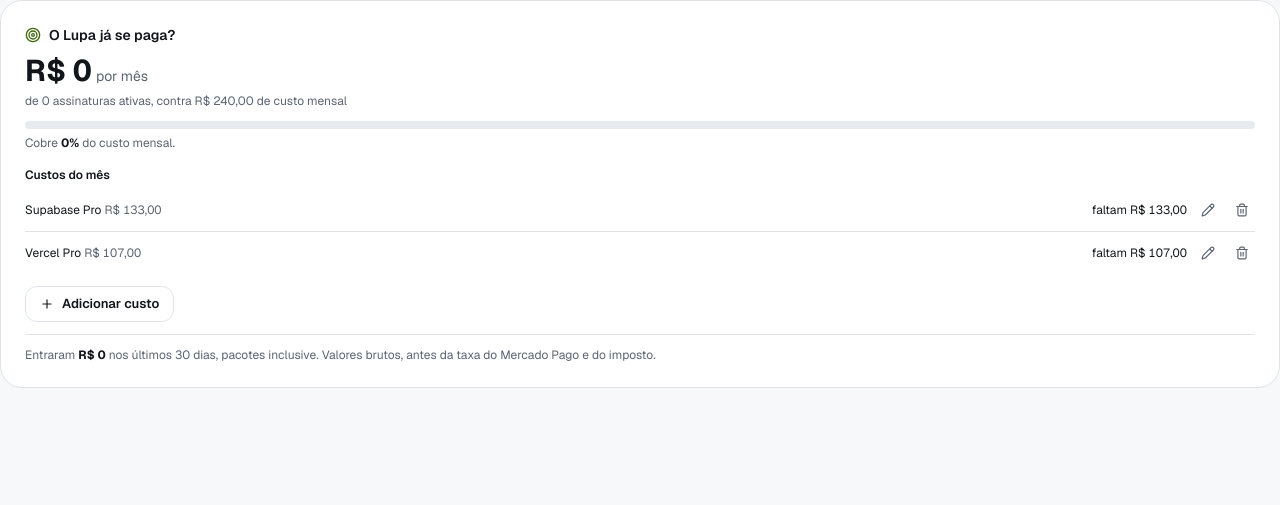
o Lupa já se paga? › valor errado mostra o erro ao lado do campo, e mantém o que foi digitado
The width and height of the screenshot is (1280, 505).
Click the button "Adicionar custo": (100,304) top-left (25, 286), bottom-right (174, 322)
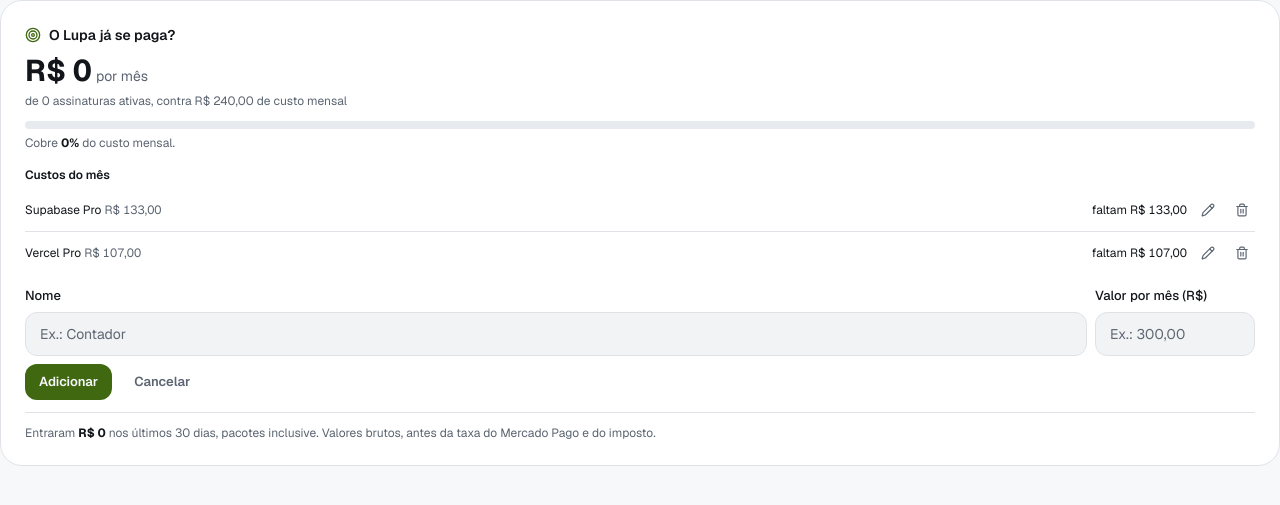
In the field labelled "Nome": (556,334) top-left (25, 312), bottom-right (1087, 356), type "Aluguel"
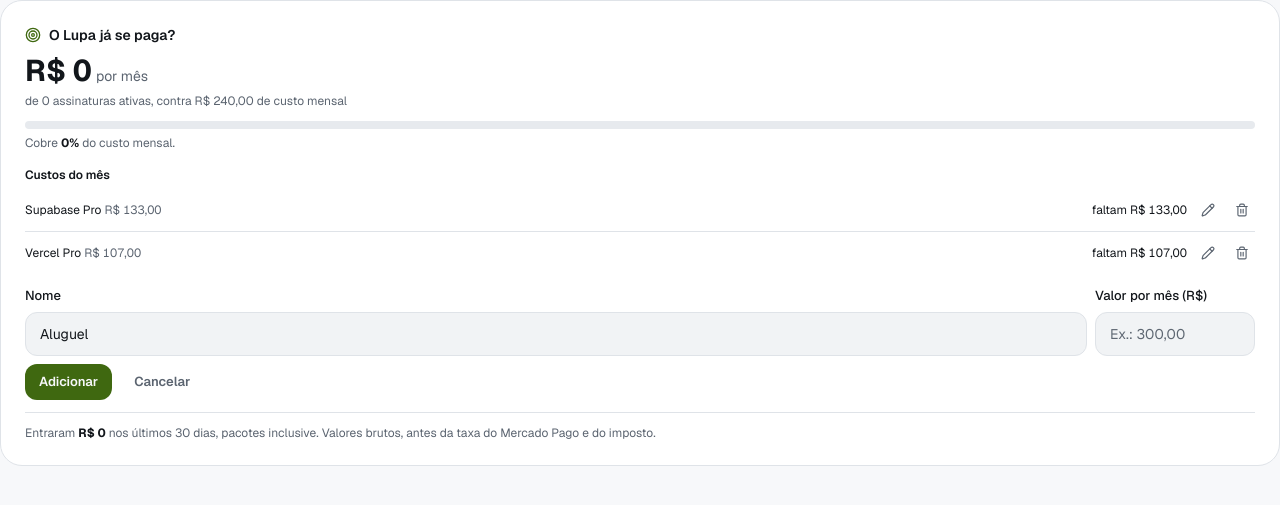
In the field labelled "Valor por mês (R$)": (1175,334) top-left (1095, 312), bottom-right (1255, 356), type "mil"
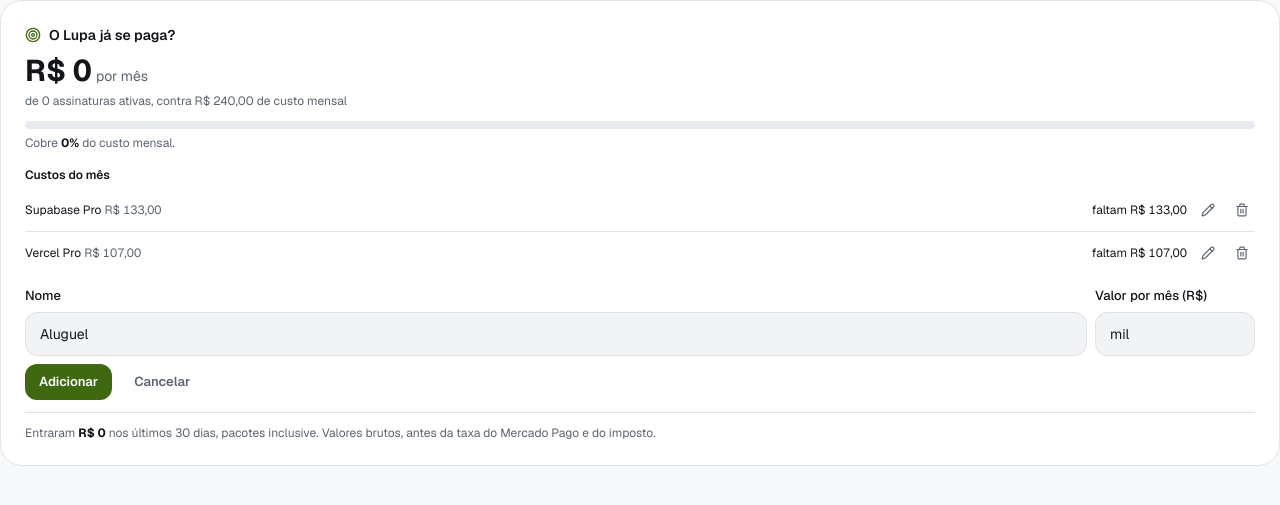
Click the button "Adicionar": (69,382) top-left (25, 364), bottom-right (112, 400)
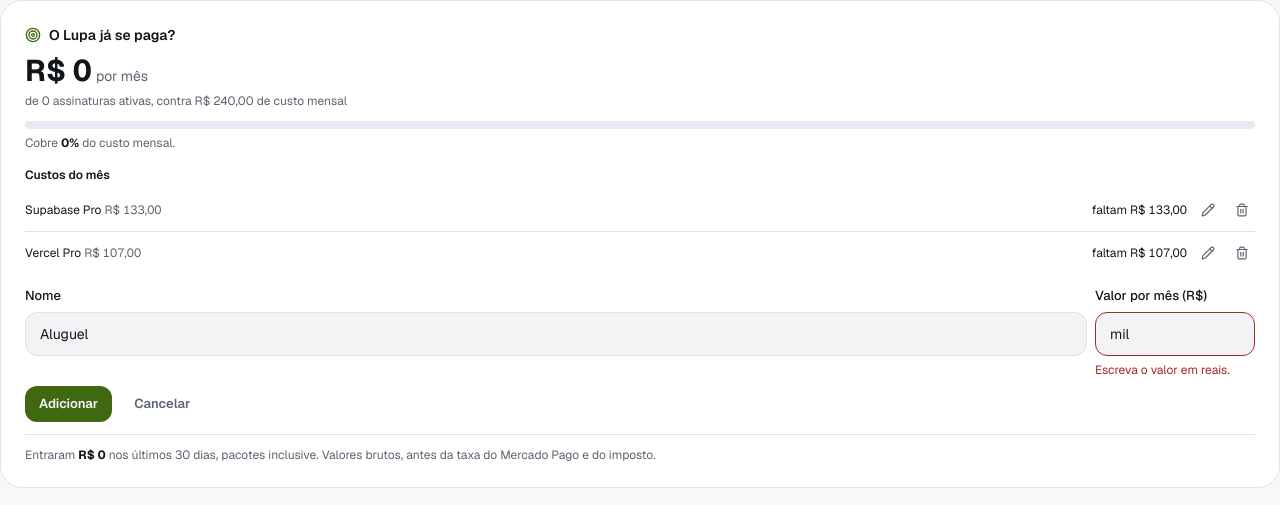
Expected: the text "Escreva o valor em reais." is shown, top-left (1095, 362), bottom-right (1230, 378)
